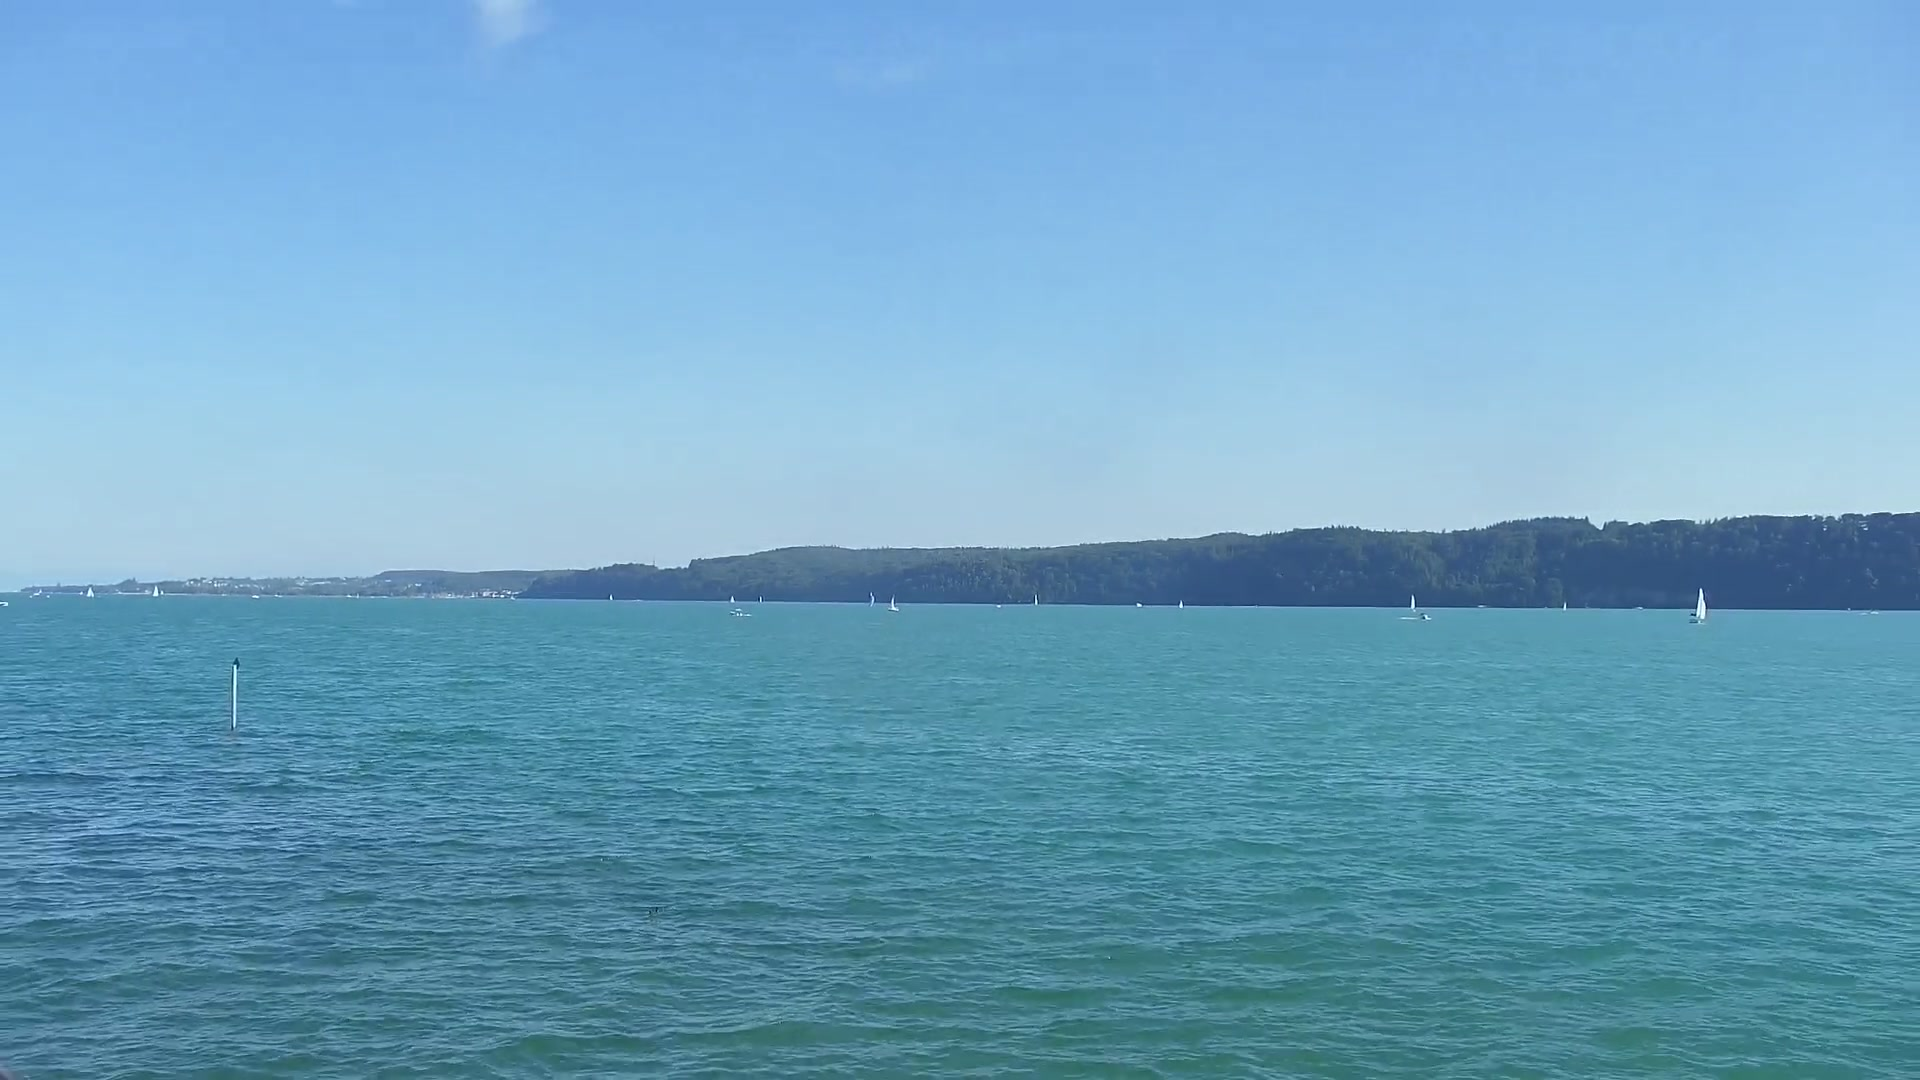sea: (1687, 585, 1706, 624), (728, 607, 752, 618), (887, 593, 899, 612), (1407, 593, 1416, 612), (866, 592, 876, 608), (84, 585, 95, 599), (150, 583, 160, 597), (1033, 592, 1040, 608), (1420, 613, 1433, 622), (1176, 597, 1184, 609), (1559, 600, 1567, 612), (607, 592, 615, 601), (343, 593, 353, 600), (758, 593, 764, 605), (251, 593, 260, 600), (353, 591, 360, 600), (728, 593, 735, 603), (1134, 601, 1143, 608), (32, 591, 40, 597), (509, 593, 516, 601), (994, 603, 1002, 609), (38, 588, 44, 593)
